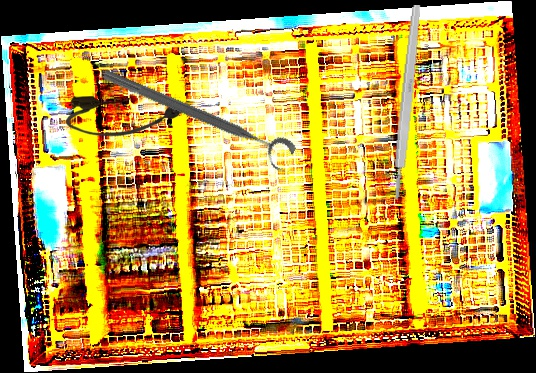Cannula: (66, 96, 185, 137)
Fixation Ring: (95, 63, 298, 176)
Scalpel Handle: (390, 4, 423, 200)
